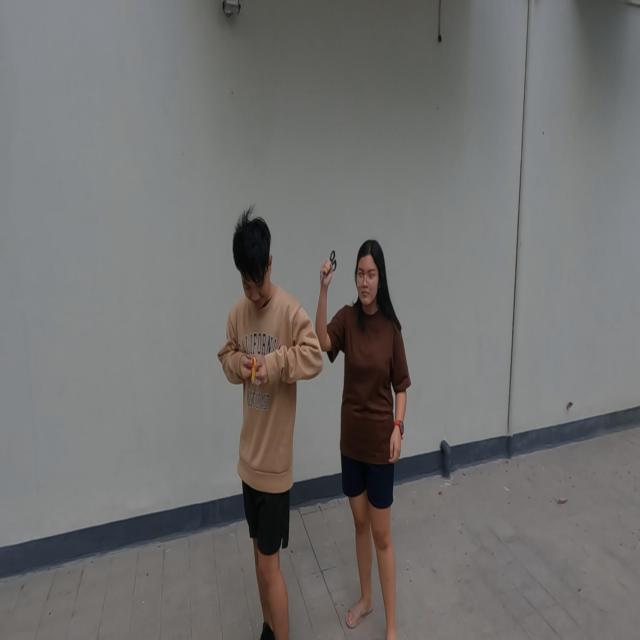scissor: (320, 249, 337, 284), (248, 356, 259, 409)
